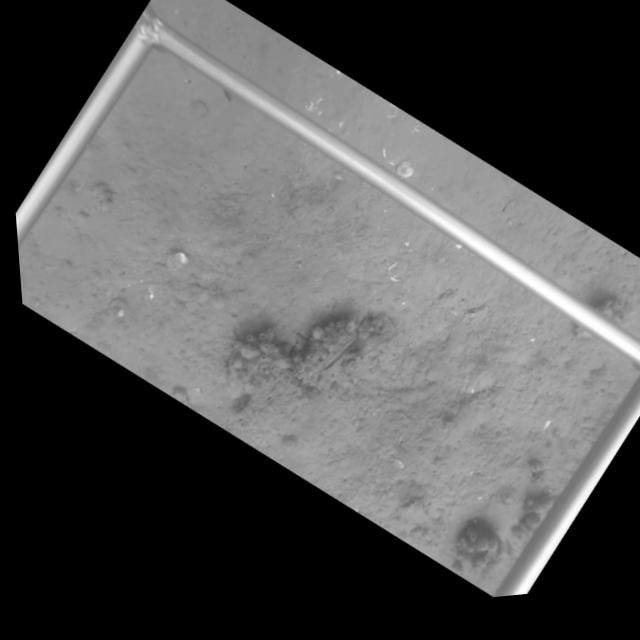Oyster-Closed: (300, 324, 358, 376)
